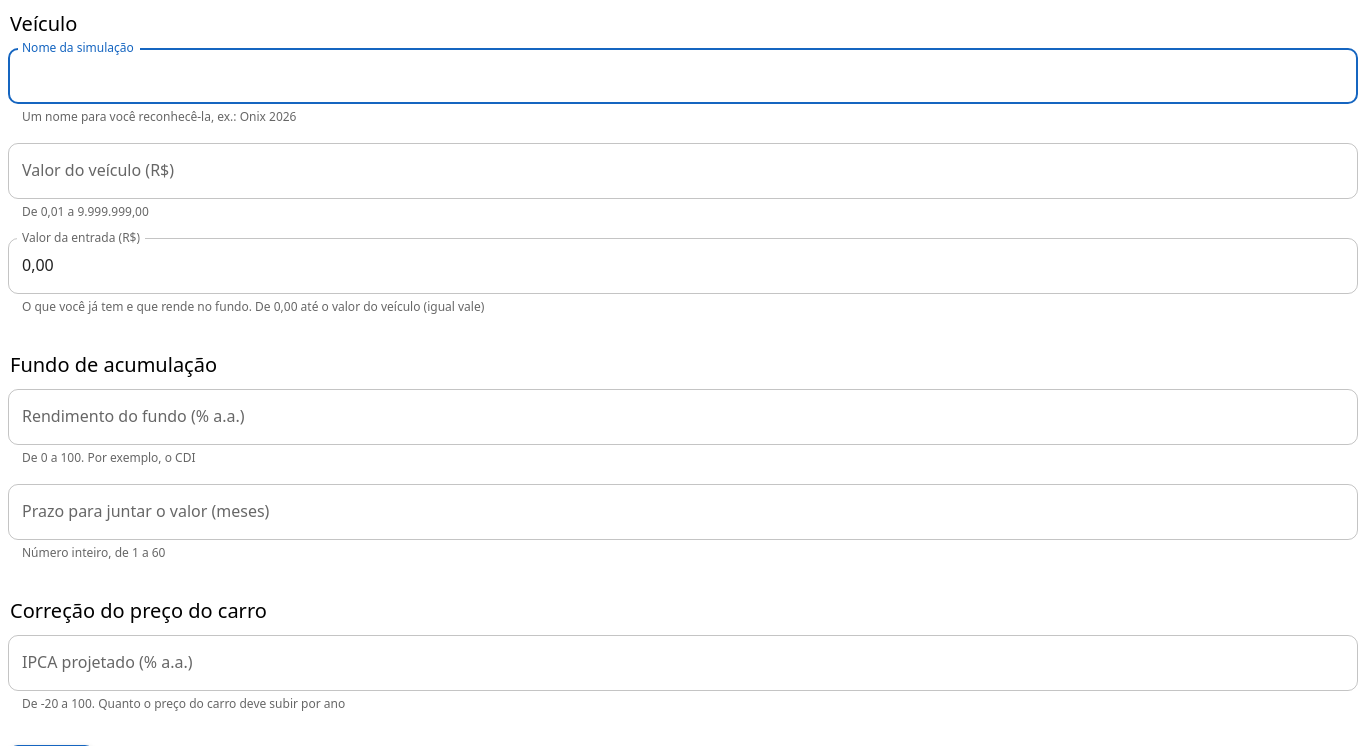
Test: FormularioSimulacao: campos › reescreve o valor ao sair do campo (95000,5 -> 95.000,50) e não enquanto digita
Type "95000,5" into the field labelled "Valor do veículo (R$)" at point(683, 171), box [8,143,1358,199]
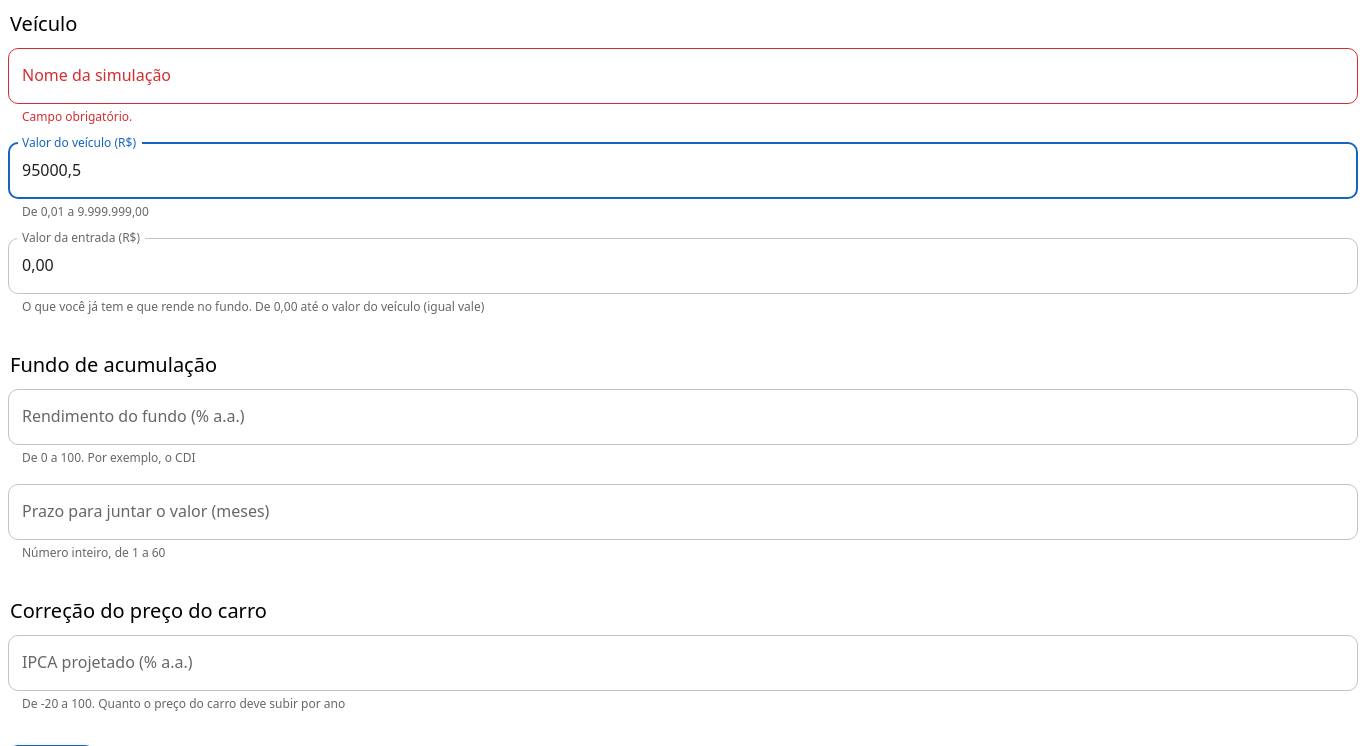
Press Tab
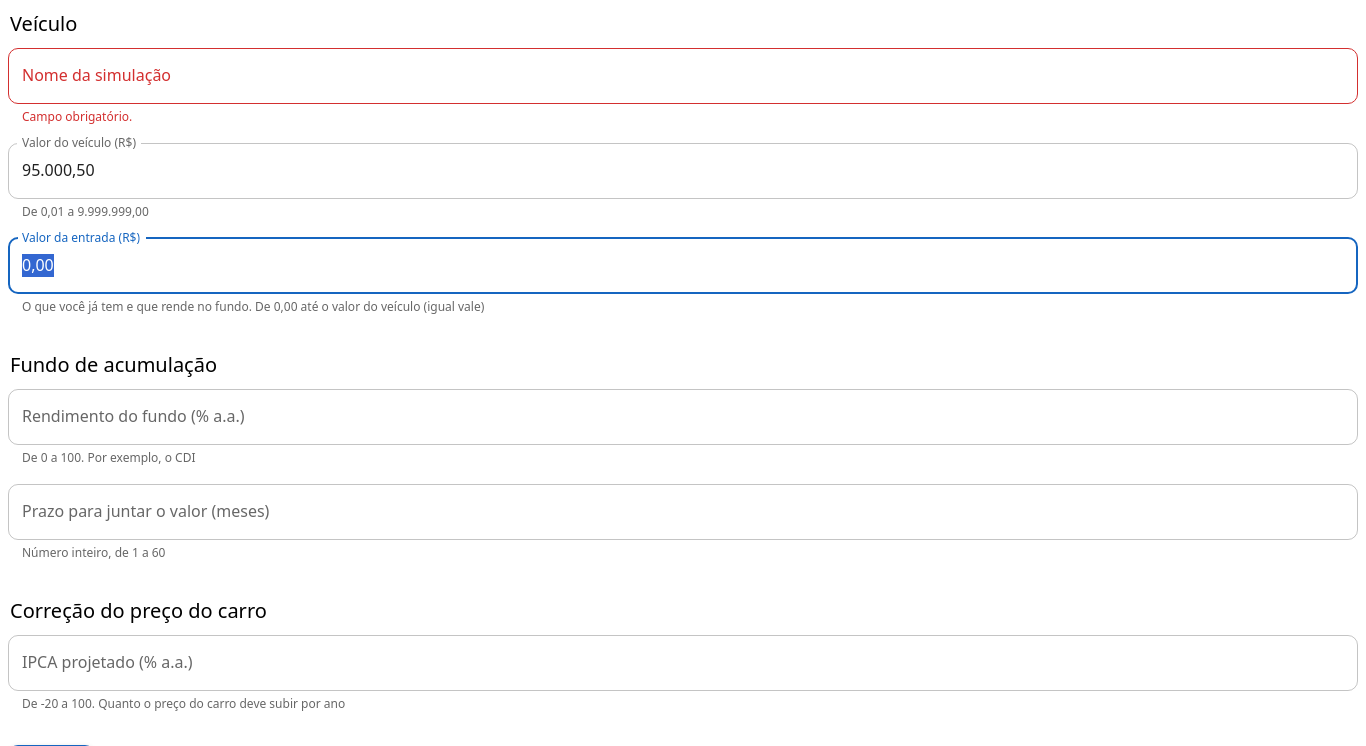
Expected: the field labelled "Valor do veículo (R$)" holds "95.000,50", [8,143,1358,199]
